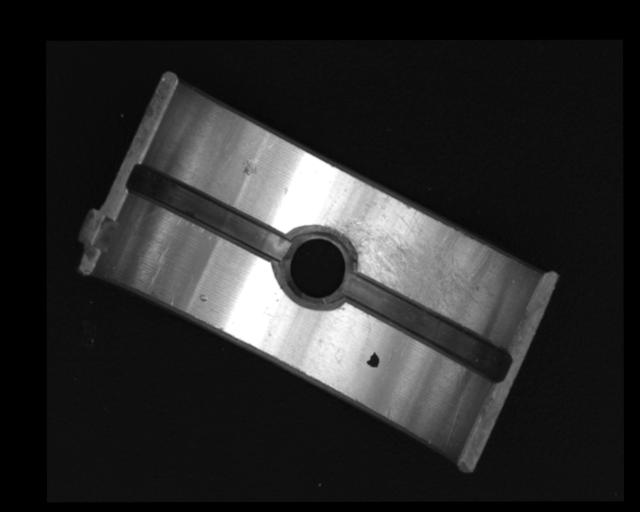blot: (365, 350, 380, 369)
bruise: (241, 158, 258, 177), (197, 292, 208, 302)
gap: (344, 273, 511, 381), (126, 163, 290, 259)
hole: (279, 224, 354, 309)
nick: (142, 245, 169, 293)
scratch: (324, 181, 482, 320)
